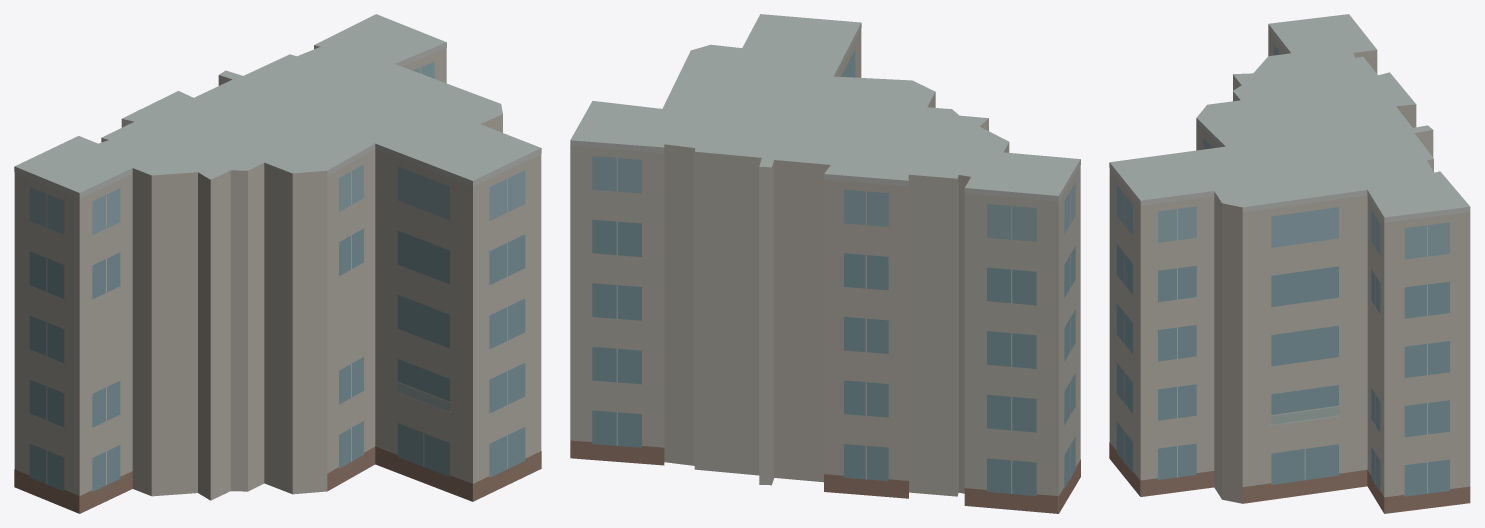
The model's file is survey-upis-32620955.glb.
3 views of the same model, side by side, from view 1: azimuth 30°, elevation 25°; view 2: azimuth 150°, elevation 25°; view 3: azimuth 270°, elevation 25° (orthographic). The views are drawn at different scales.
Parts seen in each view (by area): view 1: survey-upis-32620955.tmp; view 2: survey-upis-32620955.tmp; view 3: survey-upis-32620955.tmp.
Boxes of the visible parts, x1=… form: survey-upis-32620955.tmp: x1=14, y1=14, x2=541, y2=513; survey-upis-32620955.tmp: x1=570, y1=14, x2=1080, y2=513; survey-upis-32620955.tmp: x1=1109, y1=14, x2=1470, y2=513.
Bounding box in the file's own units: 20.11 × 13.65 × 15.07.
